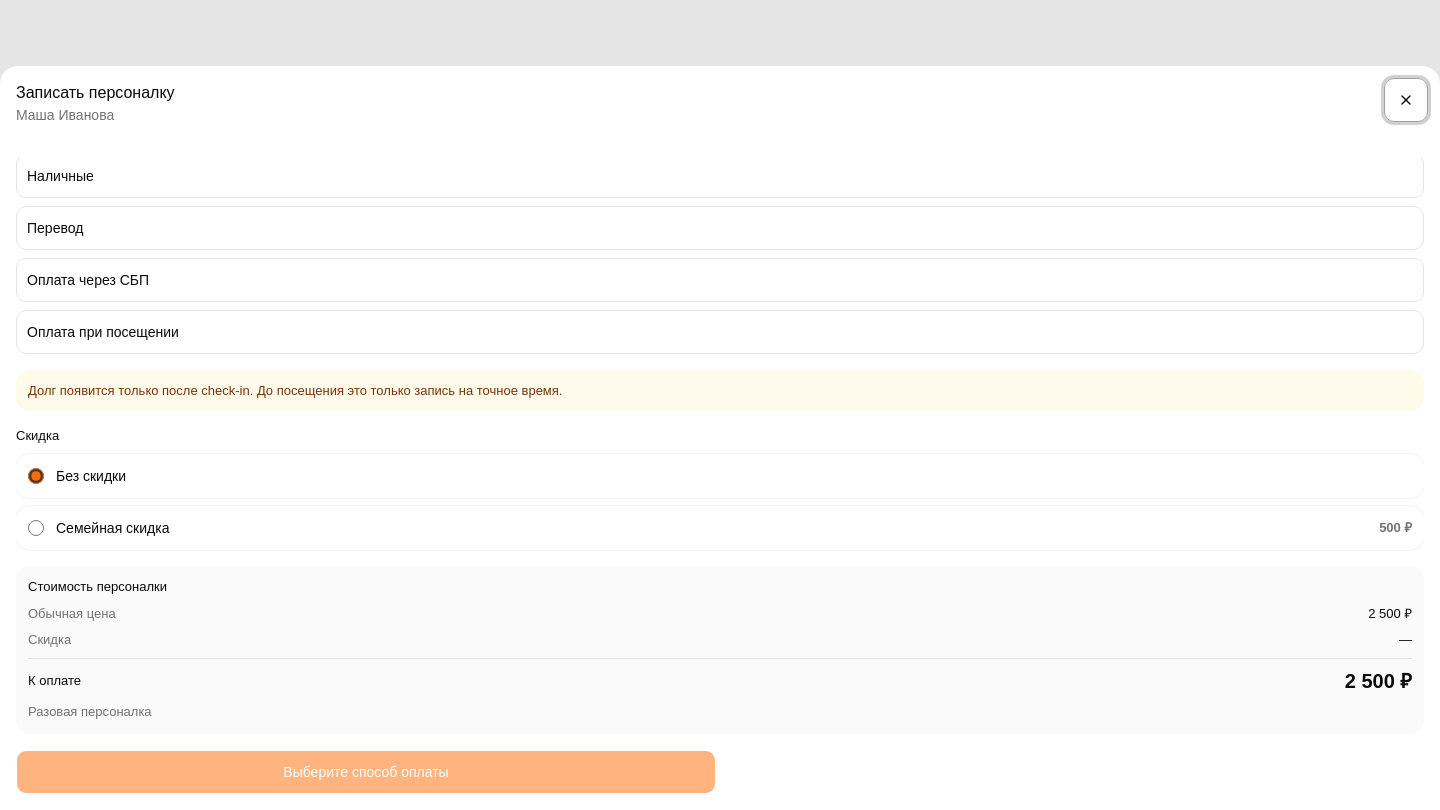
Test case: PersonalBookingSheet › shows the selected client, trainer, club time, exact discount and payable offer for a fixed slot
This screenshot has width=1440, height=810.
(page scrolled)
Click the radio button labelled "Семейная скидка 500 ₽": (36, 528) x1=28 y1=520 x2=44 y2=536
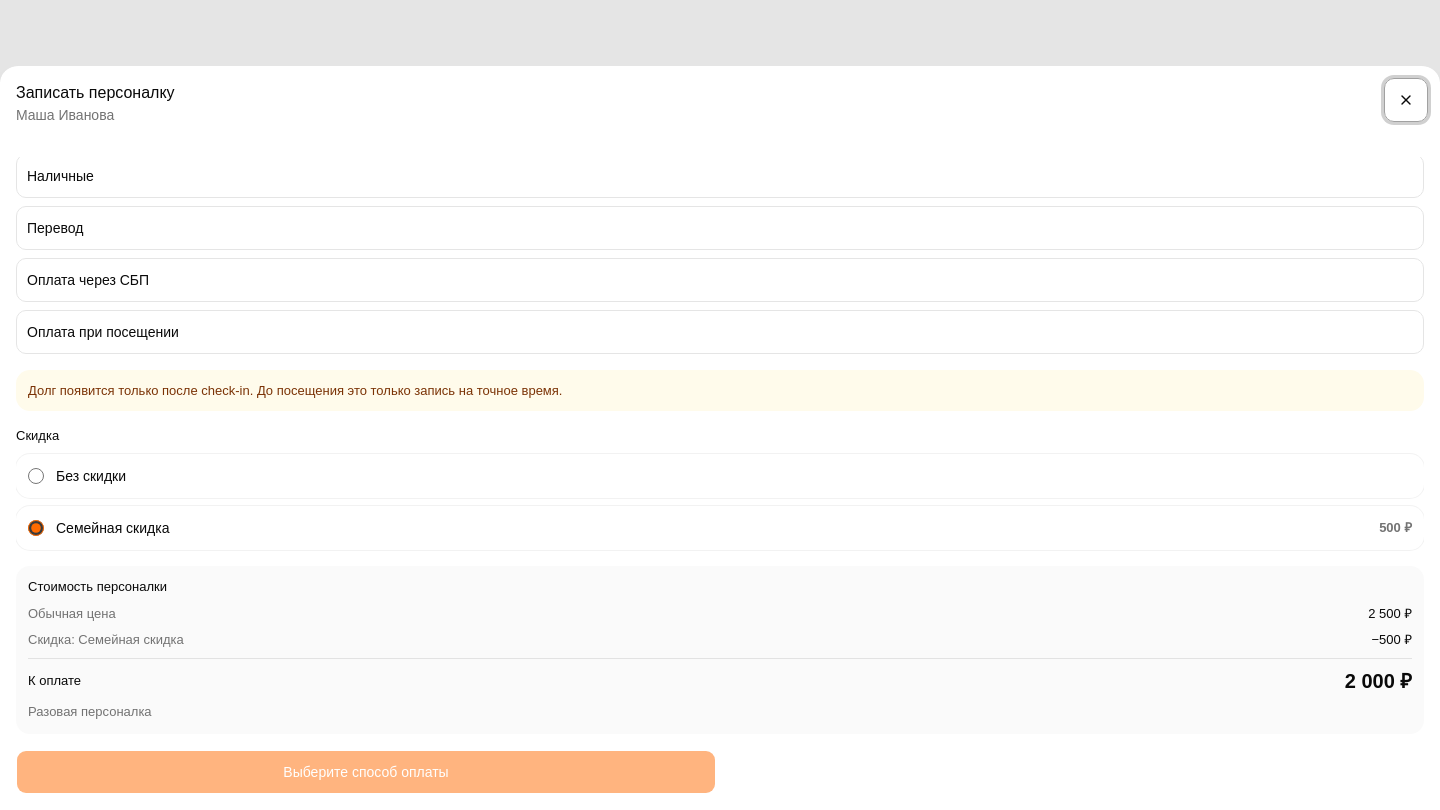
Expected: the element named "Итог персональной записи" shows "Обычная цена", x1=28 y1=606 x2=116 y2=621
Result: the element named "Итог персональной записи" shows "Скидка: Семейная скидка" at x1=28 y1=632 x2=184 y2=647
Click the button "Оплата при посещении": (103, 332) x1=16 y1=310 x2=1424 y2=354
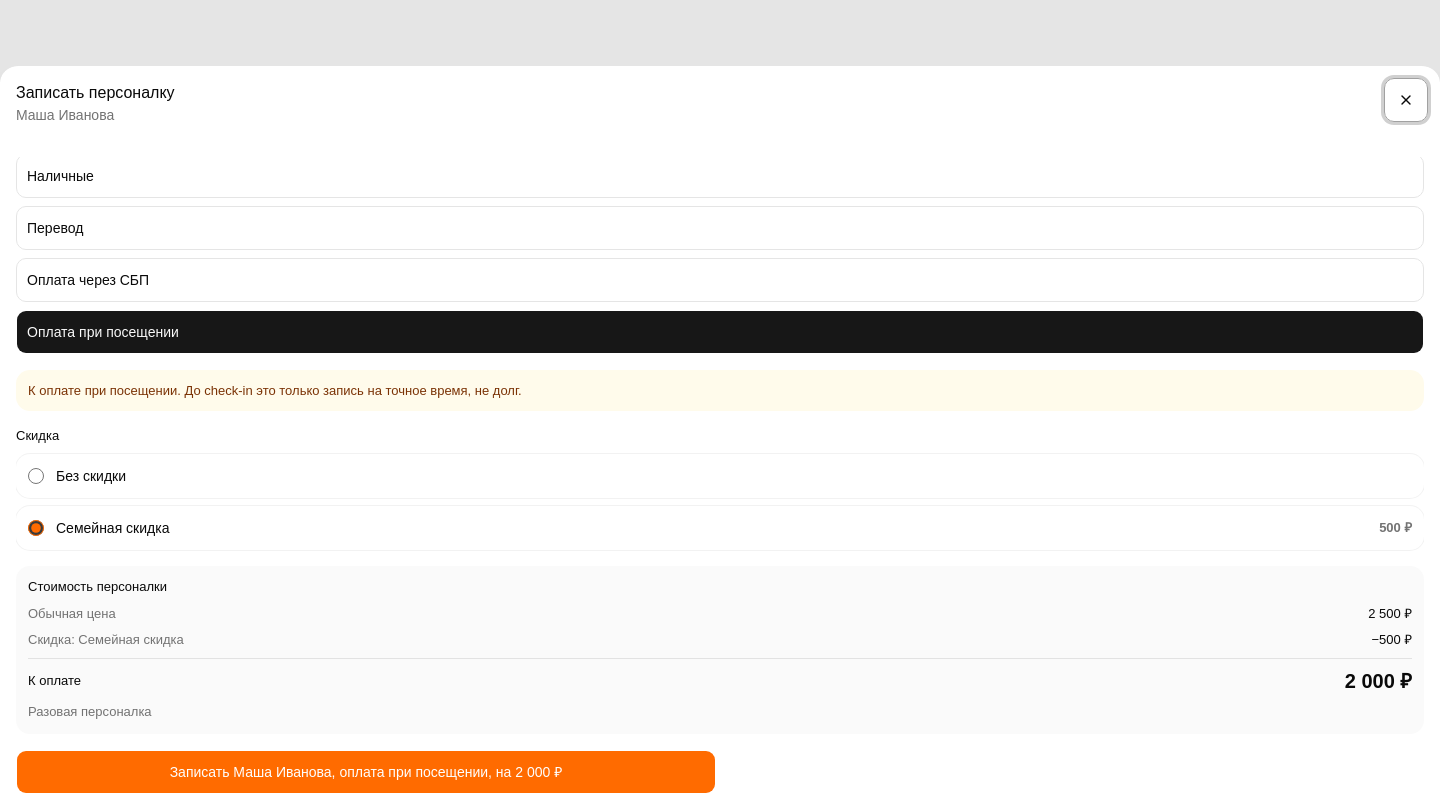
Result: the button "Записать Маша Иванова, оплата при посещении, на 2 000 ₽" is enabled at x1=16 y1=750 x2=716 y2=794
